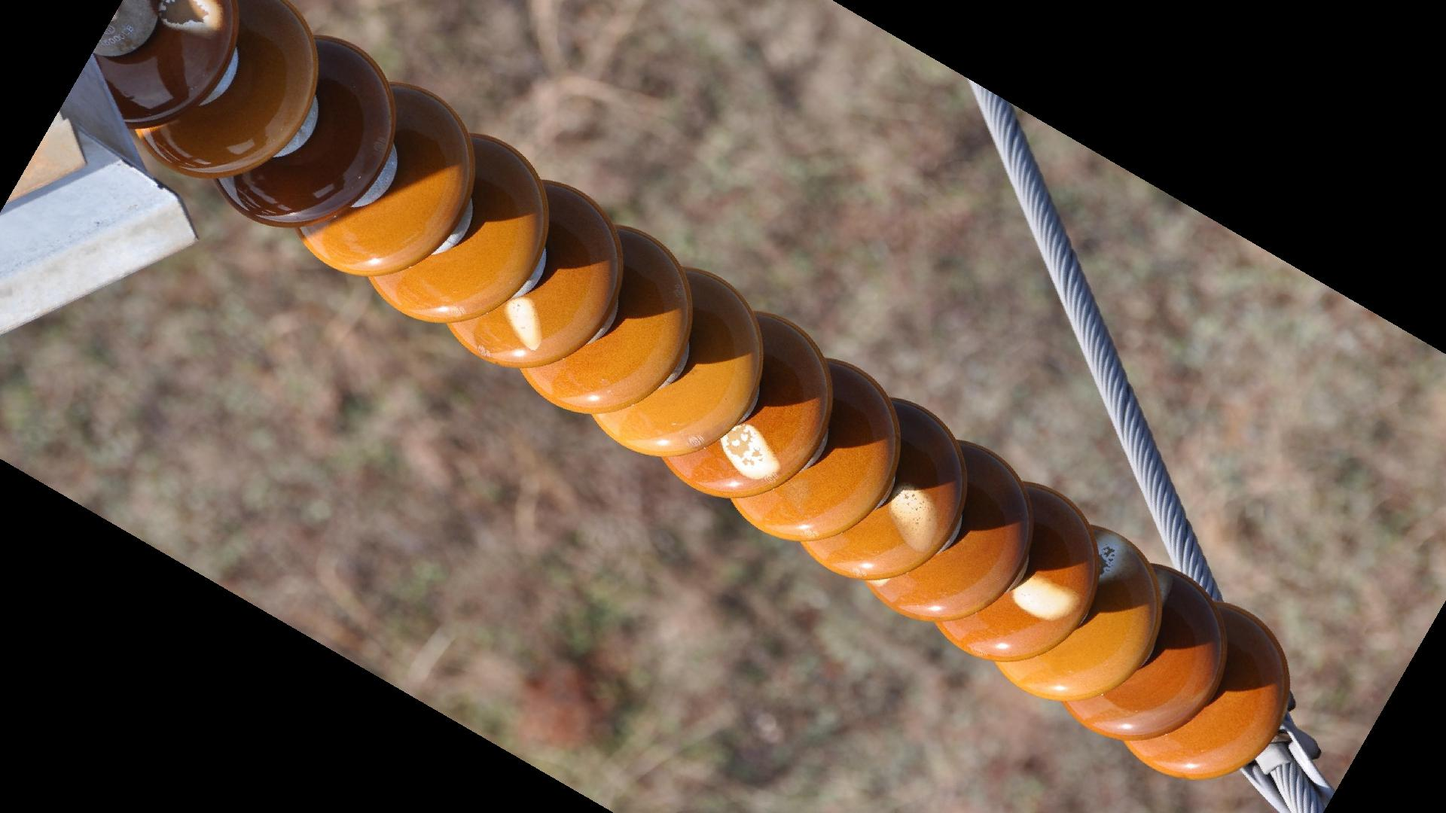insulator: (91, 1, 1299, 787)
insulator_flashover: (718, 422, 783, 483), (888, 483, 940, 553), (1010, 572, 1080, 621), (502, 295, 545, 354), (158, 1, 220, 38), (1095, 528, 1130, 583)
